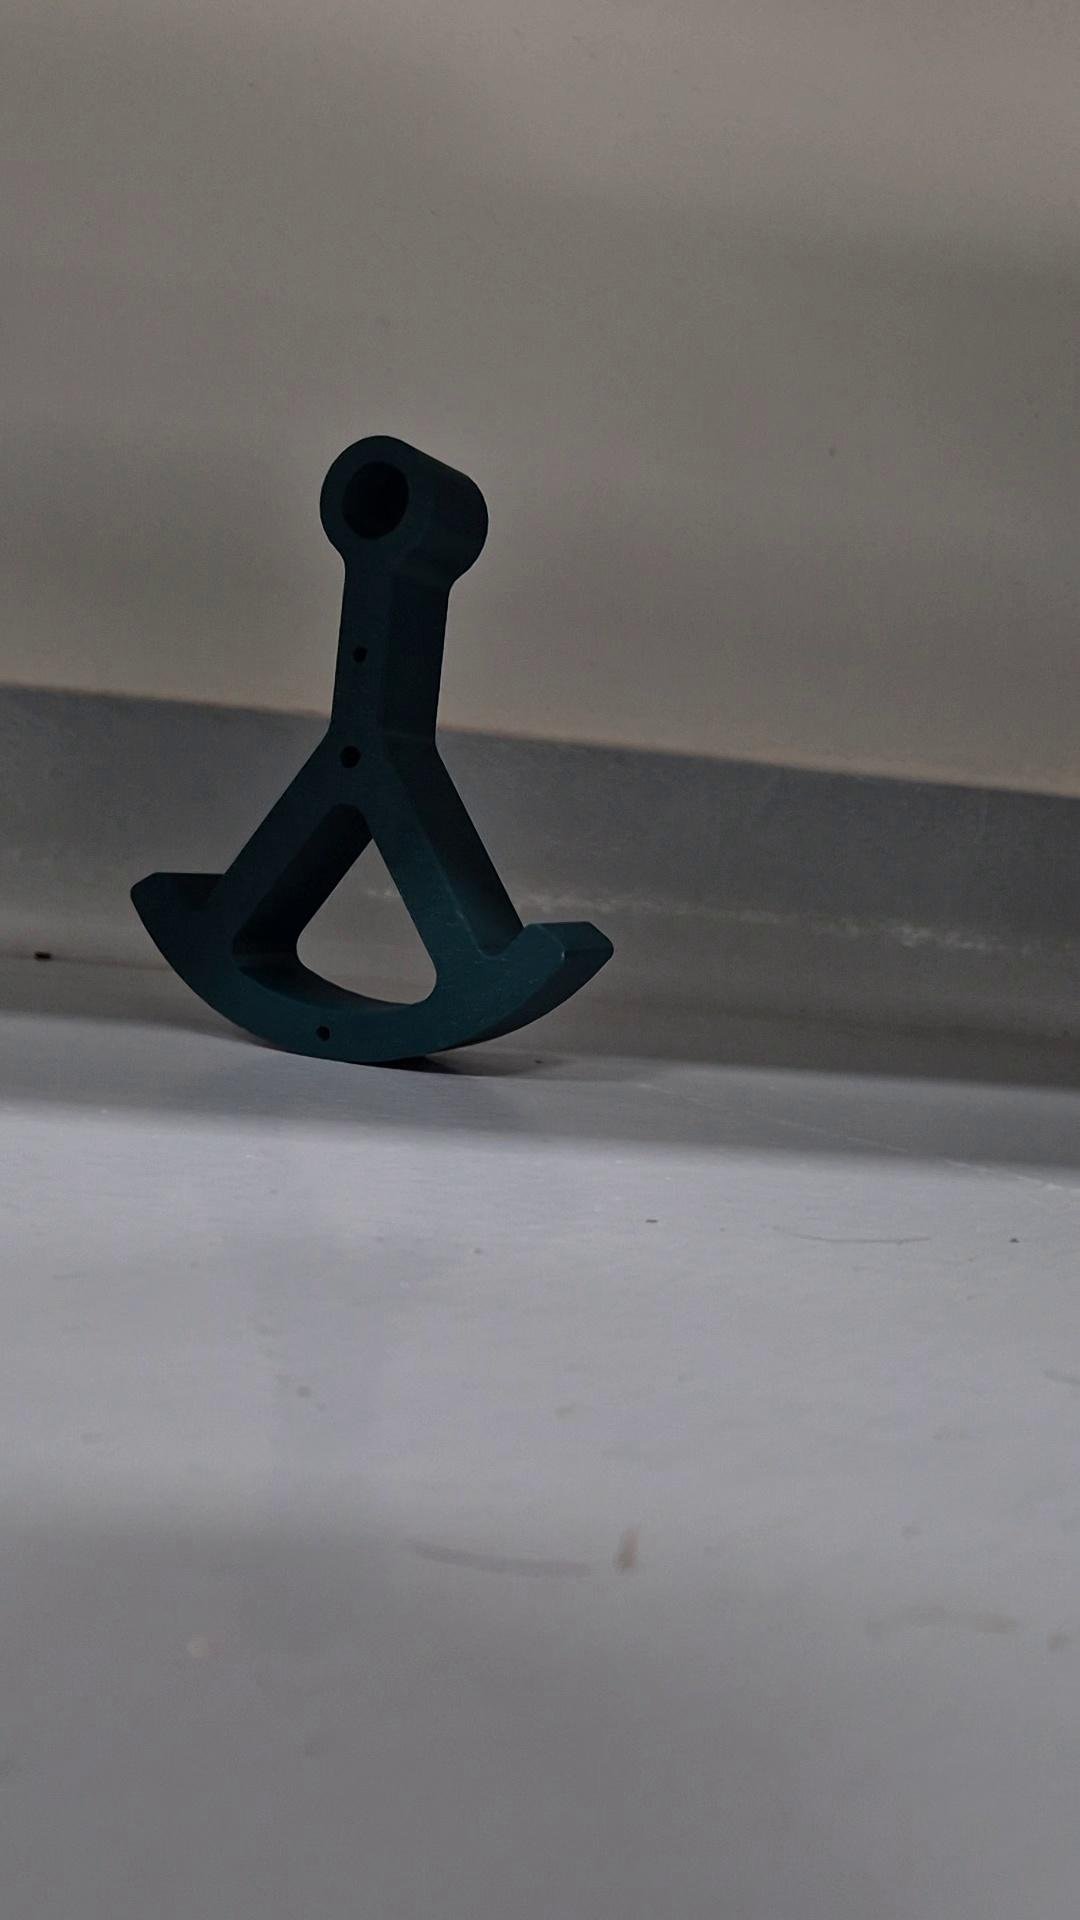Paddles: (125, 430, 618, 1072)
